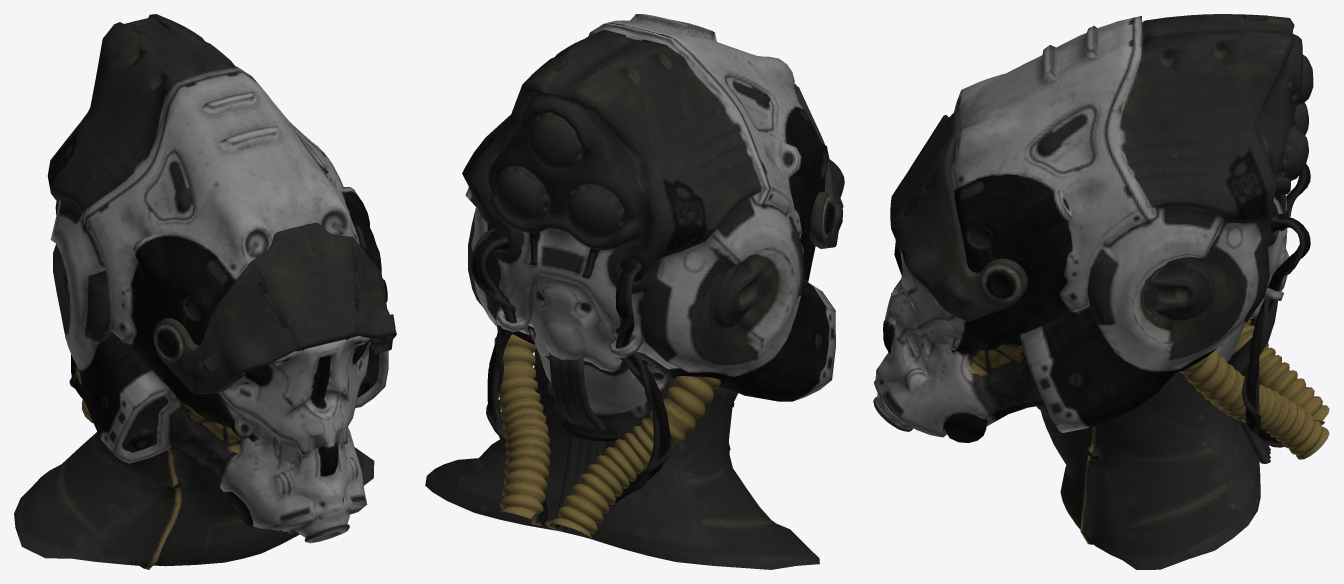
The model's file is khronos-scifi-helmet.glb.
The picture shows the model from 3 angles, left to right: view 1: azimuth 30°, elevation 25°; view 2: azimuth 150°, elevation 25°; view 3: azimuth 270°, elevation 25°; orthographic projection. The views are drawn at different scales.
Visible parts, largest first — view 1: SciFiHelmet; view 2: SciFiHelmet; view 3: SciFiHelmet.
Part boxes in pixels (x1,y1,x2,y2): SciFiHelmet: (14, 14, 396, 569); SciFiHelmet: (425, 14, 844, 569); SciFiHelmet: (873, 14, 1329, 569).
Size of the model in its own units: 1.89 by 2.4 by 2.06.
Materials: 1 (1 with a texture image).
